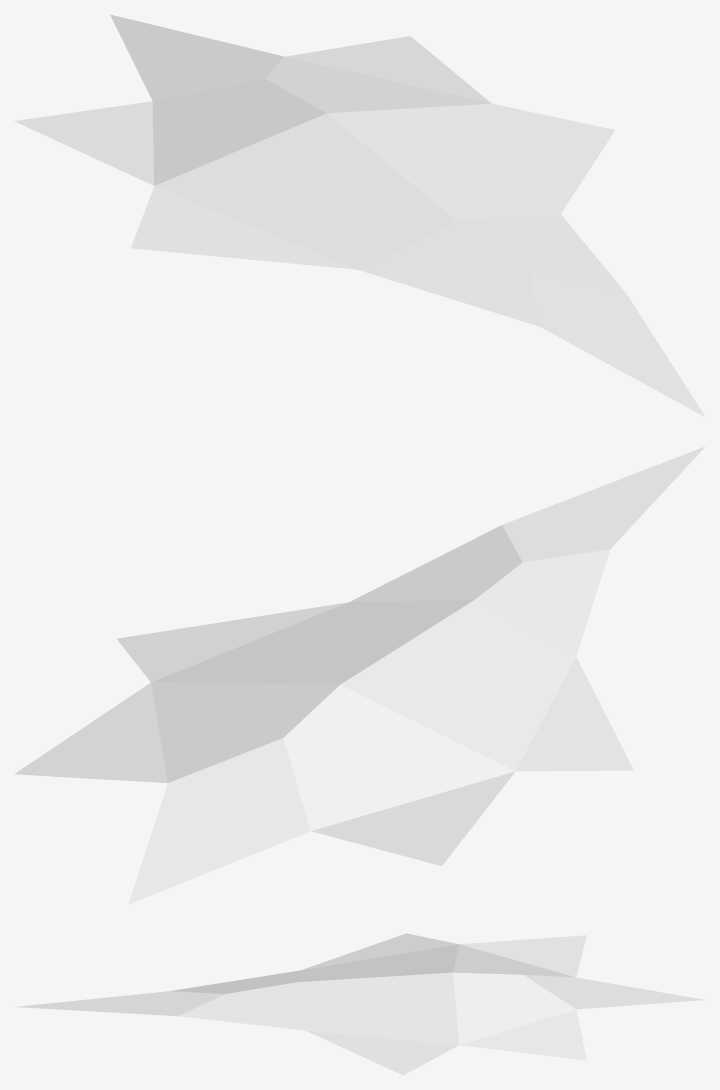
File: Pine_Spikes_OneSided_Snow_03.fbx
3 views of the same model, one above another, from view 1: azimuth 30°, elevation 25°; view 2: azimuth 150°, elevation 25°; view 3: azimuth 270°, elevation 25° (orthographic). The views are drawn at different scales.
Visible parts, largest first — view 1: Pine_Spikes_OneSided_Snow_03; view 2: Pine_Spikes_OneSided_Snow_03; view 3: Pine_Spikes_OneSided_Snow_03.
Part boxes in pixels (left/top/right/bottom): Pine_Spikes_OneSided_Snow_03: left=14, top=14, right=705, bottom=417; Pine_Spikes_OneSided_Snow_03: left=14, top=446, right=705, bottom=904; Pine_Spikes_OneSided_Snow_03: left=16, top=933, right=704, bottom=1075.
Size of the model in its own units: 113 by 11.22 by 229.
